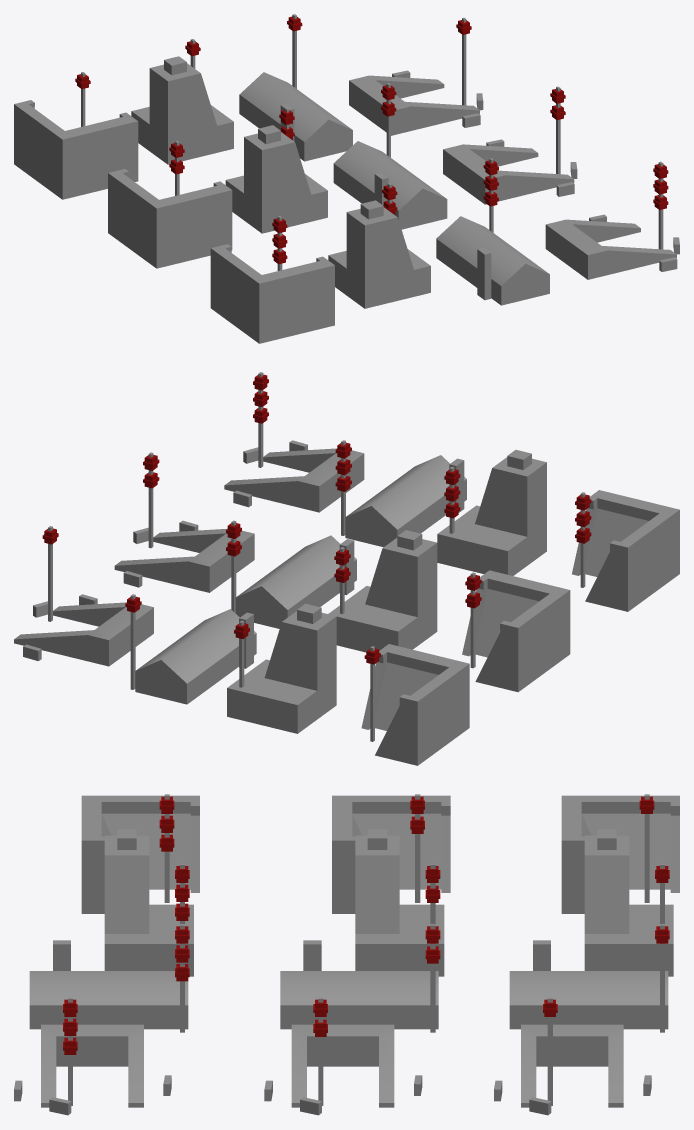
Rendered from FactoryUpgrades.FBX.
3 views of the same model, one above another, from view 1: azimuth 30°, elevation 25°; view 2: azimuth 150°, elevation 25°; view 3: azimuth 270°, elevation 25° (orthographic). The views are drawn at different scales.
Visible parts, largest first — view 1: Quarry003, Quarry002, Quarry001, IronMine003, IronMine002, IronMine001, Sawmill003, CoalMine003, Sawmill002, Sawmill001, CoalMine002, CoalMine001; view 2: Quarry003, Quarry002, Quarry001, IronMine003, IronMine001, IronMine002, Sawmill001, Sawmill003, Sawmill002, CoalMine002, CoalMine003, CoalMine001; view 3: Sawmill003, Sawmill002, Sawmill001, IronMine001, IronMine002, IronMine003, Quarry002, Quarry001, Quarry003, CoalMine002, CoalMine003, CoalMine001.
Boxes of the visible parts, x1,y1,x2,y2 form: Quarry003: [210, 216, 334, 343]; Quarry002: [108, 140, 232, 268]; Quarry001: [14, 72, 138, 199]; IronMine003: [328, 183, 430, 308]; IronMine002: [225, 107, 327, 233]; IronMine001: [131, 39, 233, 164]; Sawmill003: [436, 158, 549, 305]; CoalMine003: [545, 161, 679, 279]; Sawmill002: [333, 83, 447, 229]; Sawmill001: [239, 14, 352, 161]; CoalMine002: [443, 86, 577, 204]; CoalMine001: [349, 17, 483, 135]; Quarry003: [572, 490, 679, 611]; Quarry002: [462, 570, 570, 692]; Quarry001: [361, 644, 469, 765]; IronMine003: [437, 450, 546, 575]; IronMine001: [227, 603, 336, 733]; IronMine002: [328, 530, 437, 652]; Sawmill001: [125, 594, 256, 704]; Sawmill003: [335, 440, 466, 547]; Sawmill002: [226, 520, 356, 628]; CoalMine002: [114, 452, 254, 592]; CoalMine003: [224, 372, 364, 512]; CoalMine001: [14, 526, 153, 666]; Sawmill003: [29, 924, 189, 1032]; Sawmill002: [280, 924, 440, 1032]; Sawmill001: [509, 924, 669, 1032]; IronMine001: [584, 829, 673, 976]; IronMine002: [355, 829, 444, 976]; IronMine003: [104, 829, 193, 976]; Quarry002: [332, 794, 450, 913]; Quarry001: [561, 794, 679, 913]; Quarry003: [81, 794, 199, 913]; CoalMine002: [264, 997, 422, 1115]; CoalMine003: [14, 997, 171, 1115]; CoalMine001: [494, 997, 651, 1115].
Size of the model in its own units: 27919 by 6002 by 31885.
